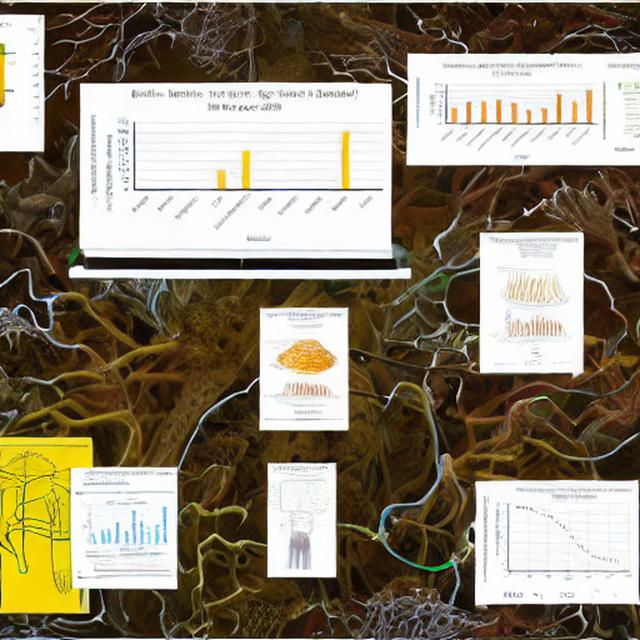Graph: (100, 85, 389, 244), (422, 59, 602, 163), (492, 485, 638, 585), (80, 501, 170, 549), (502, 302, 565, 348), (271, 480, 331, 517)
